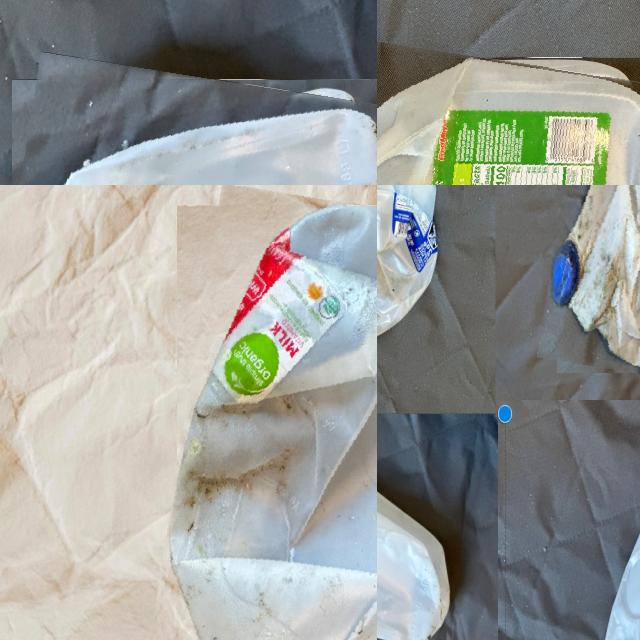milk-jug: (156, 193, 377, 640), (0, 65, 377, 185), (377, 42, 640, 185), (547, 185, 640, 379), (377, 475, 446, 640), (377, 185, 442, 354)
